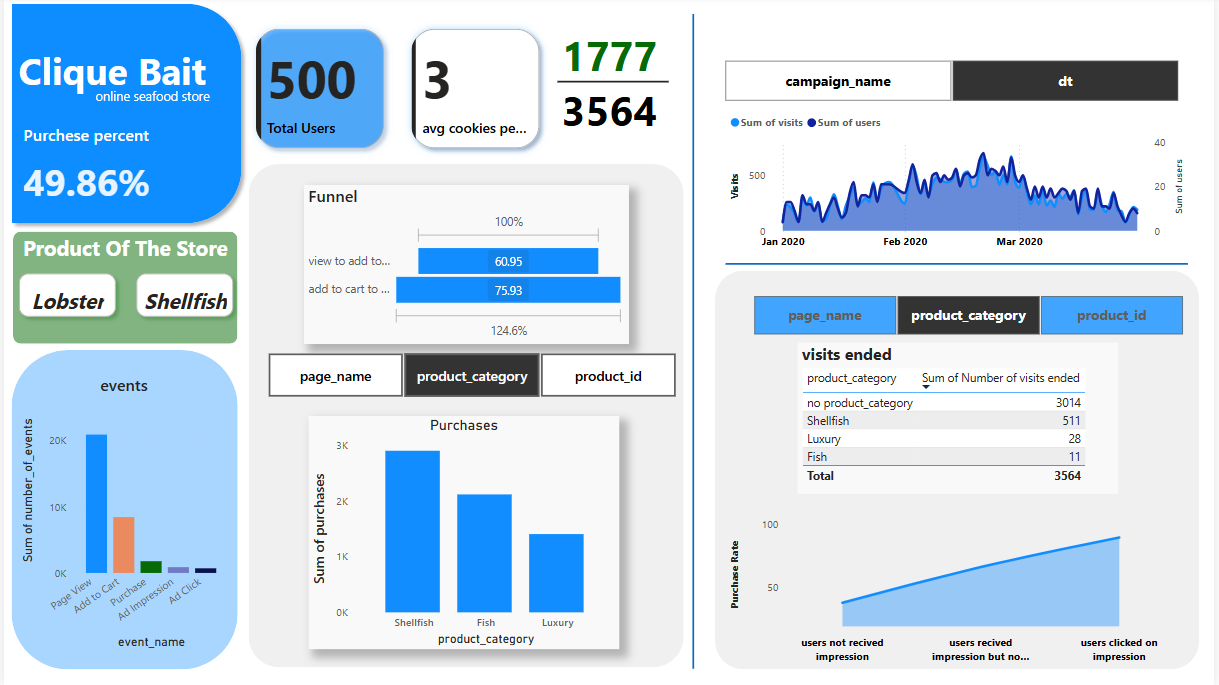

Layout of this report page (visuals, bound fields, positions):
{"tool":"powerbi","page":{"name":"Report","canvas":[1400,800],"ordinal":0},"visuals":[{"type":"shape","box":[0,0,284,272],"z":0},{"type":"textbox","box":[641,30.1,143.8,156.2],"z":0,"group":"g1"},{"type":"textbox","box":[0,56.6,304,70.7],"z":1000},{"type":"shape","box":[640.4,58.7,128.8,83.8],"z":1000,"group":"g1"},{"type":"textbox","box":[0,51.7,262.8,76.4],"z":2000},{"type":"cardVisual","fields":{"Data":["Sum(clique_bait_reporting total_users.Total number of users)","Sum(clique_bait_reporting avg_cookies_per_user.average number of cookies)"]},"box":[274,21.1,362.5,172.8],"z":3000},{"type":"lineChart","fields":{"Category":["clique_bait_reporting dt_users_visits_camp.dt"],"Y":["Sum(clique_bait_reporting dt_users_visits_camp.visits)"],"Y2":["Sum(clique_bait_reporting dt_users_visits_camp.users)"]},"box":[836,127.2,535.5,175],"z":4000},{"type":"slicer","fields":{"Values":["timeline_camp.timeline_camp"]},"box":[810,68,574,60],"z":5000},{"type":"shape","box":[786.5,21.2,23,758.2],"z":7000},{"type":"shape","box":[836,302.2,535.5,15.9],"z":8000},{"type":"shape","box":[823.2,317.8,560.9,461.9],"z":9000},{"type":"slicer","fields":{"Values":["endx.endx"]},"box":[848,346,536,48],"z":10000},{"type":"tableEx","title":"visits ended","fields":{"Values":["clique_bait_reporting page_pid_pc_and_number_of_visits_ended.page_name","Sum(clique_bait_reporting page_pid_pc_and_number_of_visits_ended.Number of visits ended)"]},"box":[918.7,401.2,371.6,345.6],"z":11000},{"type":"textbox","box":[679,291.8,107.7,109.4],"z":12000},{"type":"textbox","box":[100.7,100.7,184.1,39.9],"z":13000},{"type":"shape","box":[8,410,262,370],"z":14000},{"type":"shape","box":[283.6,195.4,504.1,582.9],"z":15000},{"type":"funnel","title":"Funnel","fields":{"Y":["Avg(clique_bait_reporting avg_conversion_rate_from_view_to_addcart2.average_conversion_rate)","Sum(clique_bait_reporting avg_conversion_rate_from_cartadd_to_purchase2.average_conversion_rate)"]},"box":[348,218,376,184],"z":16000},{"type":"columnChart","title":"Purchases","fields":{"Category":["clique_bait_reporting product_info.product_category"],"Y":["Sum(clique_bait_reporting product_info.purchases)"]},"box":[352,486,360,270],"z":17000},{"type":"slicer","fields":{"Values":["product_details2.product_details2"]},"box":[282.7,409.6,515.4,57.7],"z":18000},{"type":"columnChart","title":"events","fields":{"Category":["clique_bait_reporting events_per_event.event_name"],"Y":["Sum(clique_bait_reporting events_per_event.number_of_events)"]},"box":[14,438,250,322],"z":19000},{"type":"group","id":"g1","title":"Group 1","box":[640.4,30.1,144.3,156.2],"z":20000},{"type":"cardVisual","title":"Purchese percent","fields":{"Data":["clique_bait_reporting page_pid_pc_and_number_of_visits_ended.purchese_percent"]},"box":[18,148,218,90],"z":21000},{"type":"shape","box":[10,272,260,130],"z":22000},{"type":"cardVisual","fields":{"Data":["Min(clique_bait_reporting highest_view_to_purchase_percentage.page_name)","Min(clique_bait_reporting highest_view_to_purchase_percentage.product_category)"]},"box":[0,304,282,84],"z":23000}]}

Visuals, with their boxes in screenshot pixels (x1, y1, x2, y2), scaled from the page's 1400x800 canvas onto the 1219x685 screenshot:
shape: bbox=[0, 0, 247, 233]
textbox: bbox=[558, 26, 683, 160]
textbox: bbox=[0, 48, 265, 109]
shape: bbox=[558, 50, 670, 122]
textbox: bbox=[0, 44, 229, 110]
cardVisual - Sum(clique_bait_reporting total_users.Total number of users) x Sum(clique_bait_reporting avg_cookies_per_user.average number of cookies): bbox=[239, 18, 554, 166]
lineChart - clique_bait_reporting dt_users_visits_camp.dt x Sum(clique_bait_reporting dt_users_visits_camp.visits): bbox=[728, 109, 1194, 259]
slicer - timeline_camp.timeline_camp: bbox=[705, 58, 1205, 110]
shape: bbox=[685, 18, 705, 667]
shape: bbox=[728, 259, 1194, 272]
shape: bbox=[717, 272, 1205, 668]
slicer - endx.endx: bbox=[738, 296, 1205, 337]
"visits ended" tableEx: bbox=[800, 344, 1123, 639]
textbox: bbox=[591, 250, 685, 344]
textbox: bbox=[88, 86, 248, 120]
shape: bbox=[7, 351, 235, 668]
shape: bbox=[247, 167, 686, 666]
"Funnel" funnel: bbox=[303, 187, 630, 344]
"Purchases" columnChart: bbox=[306, 416, 620, 647]
slicer - product_details2.product_details2: bbox=[246, 351, 695, 400]
"events" columnChart: bbox=[12, 375, 230, 651]
"Group 1" group: bbox=[558, 26, 683, 160]
"Purchese percent" cardVisual: bbox=[16, 127, 205, 204]
shape: bbox=[9, 233, 235, 344]
cardVisual - Min(clique_bait_reporting highest_view_to_purchase_percentage.page_name) x Min(clique_bait_reporting highest_view_to_purchase_percentage.product_category): bbox=[0, 260, 246, 332]
